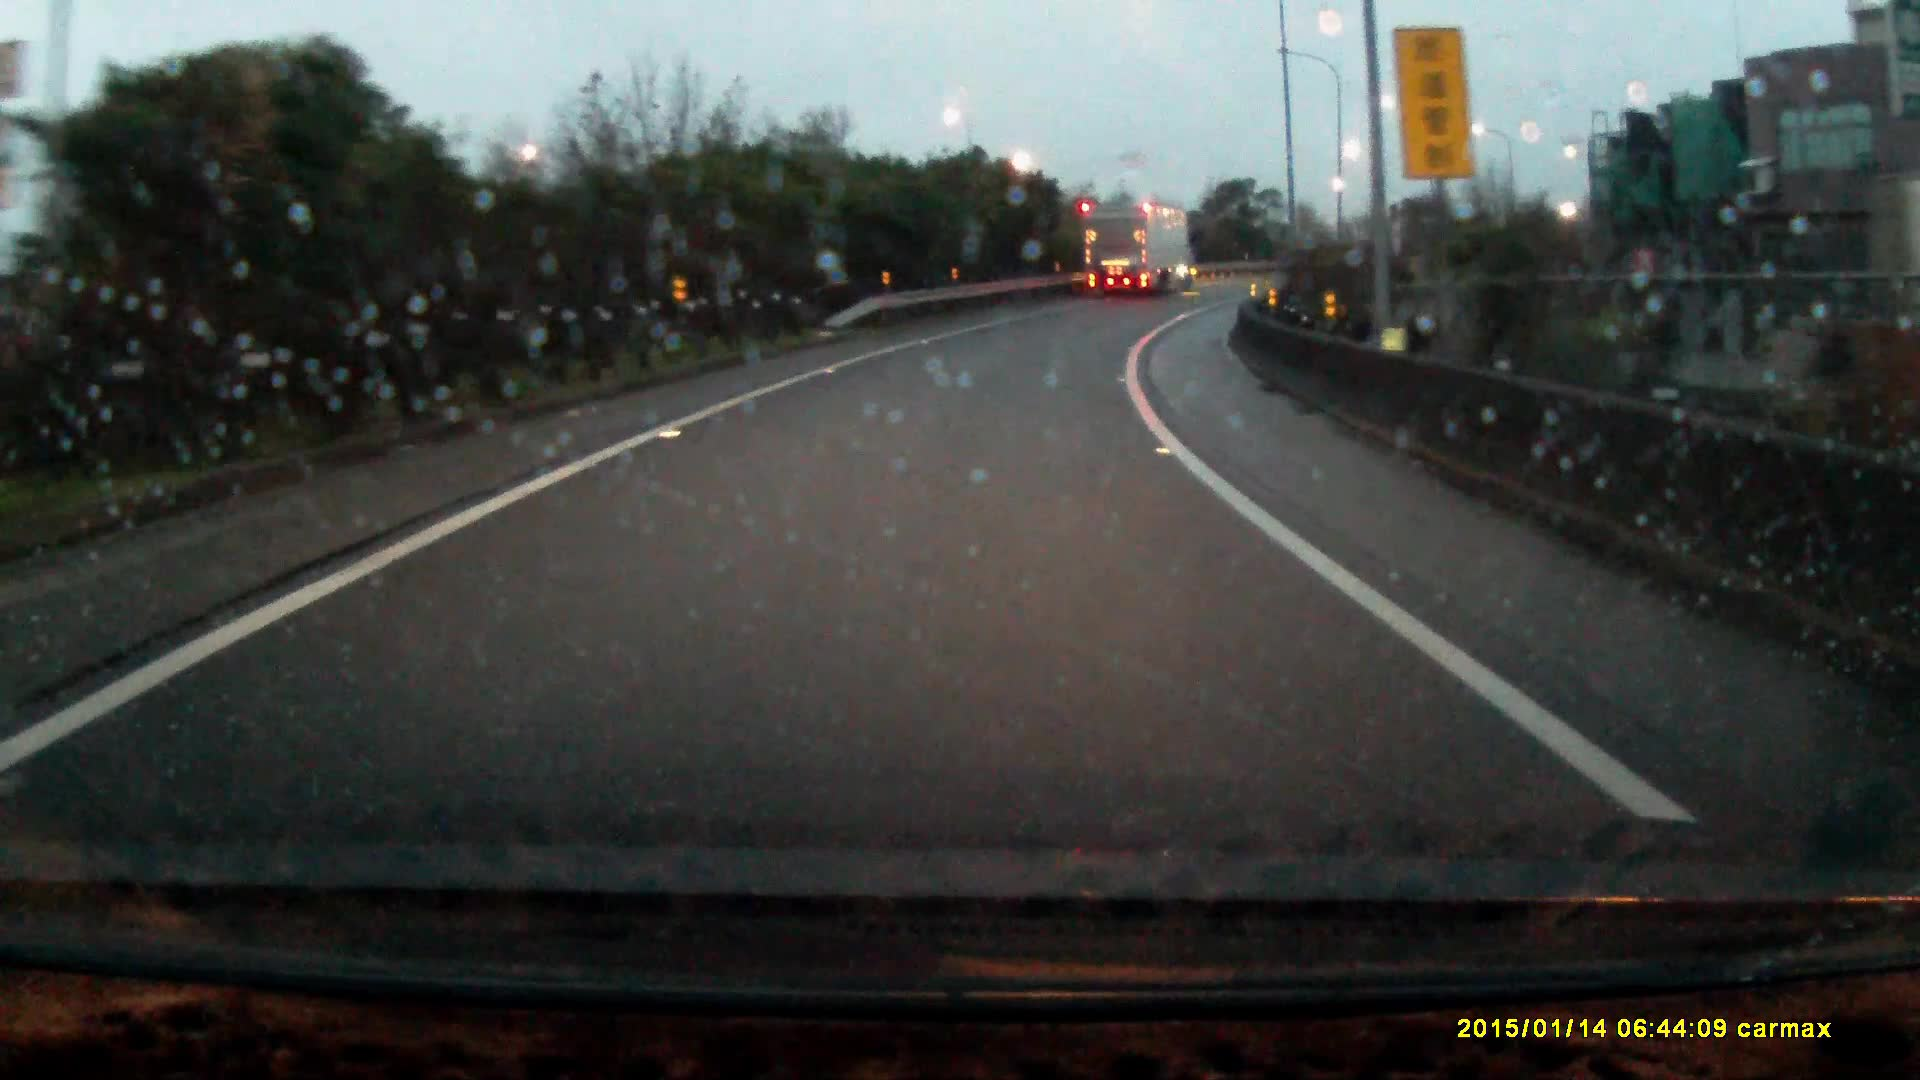vehicle: (1083, 200, 1197, 297)
